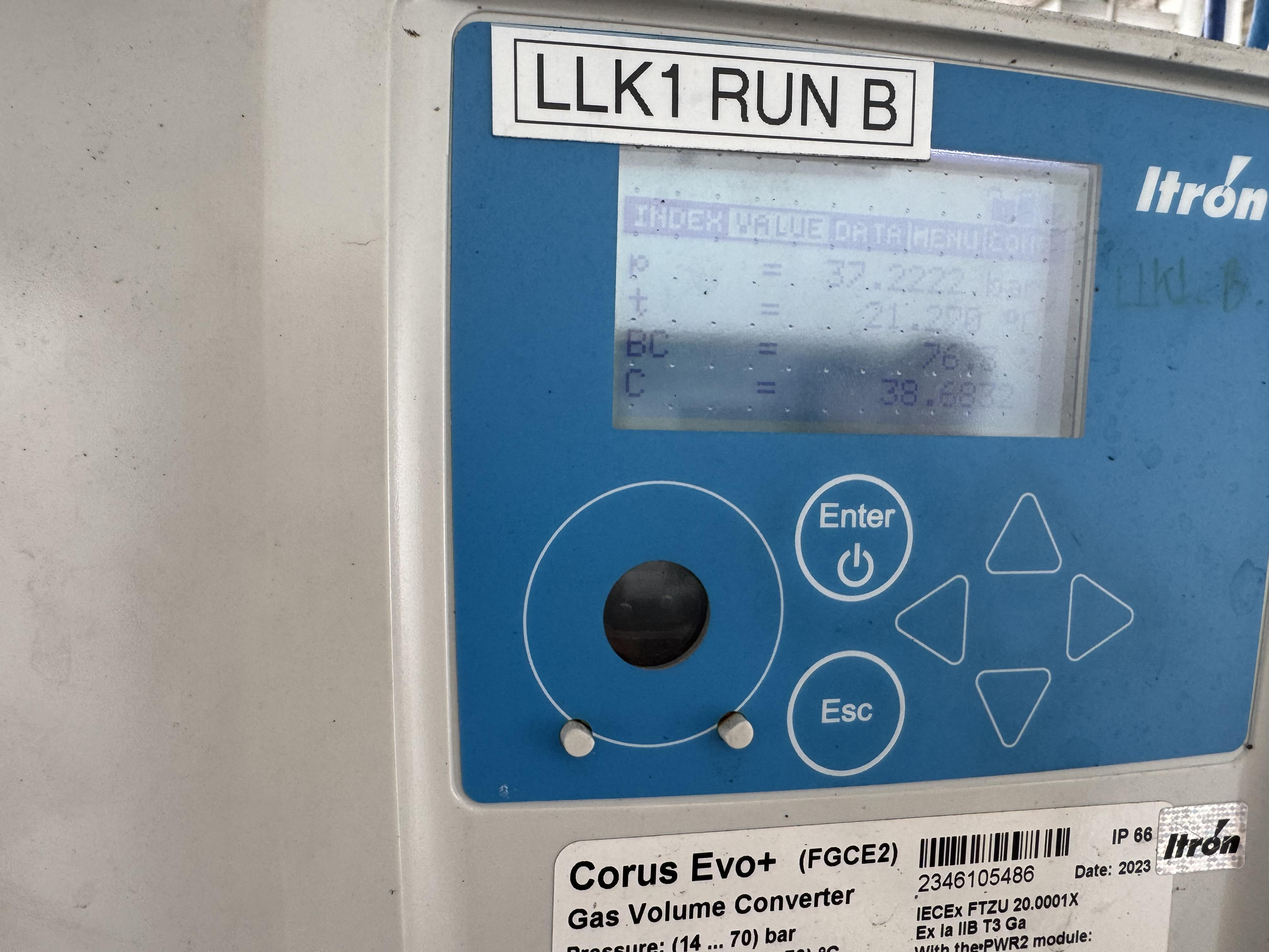digital_screen: (613, 125, 1103, 440)
